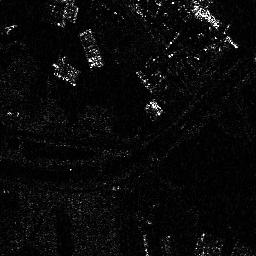ship: (76, 26, 103, 70)
